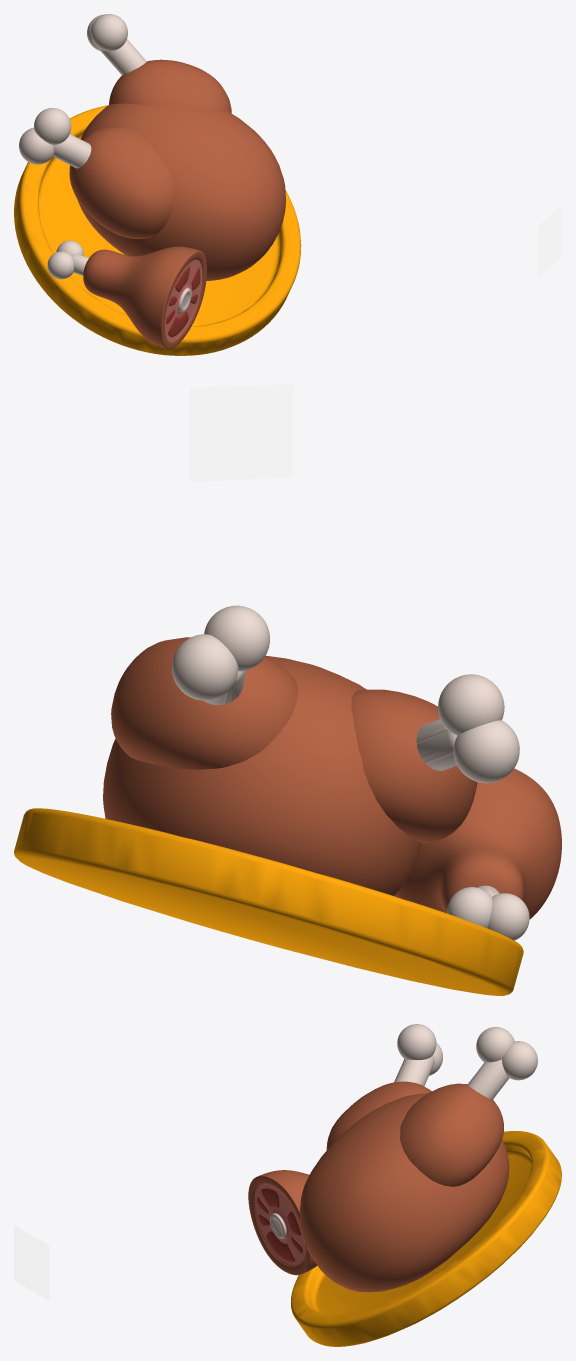
File: chicken.glb
3 renders of one model, top to bottom at view 1: azimuth 30°, elevation 25°; view 2: azimuth 150°, elevation 25°; view 3: azimuth 270°, elevation 25°, orthographic. The views are drawn at different scales.
Visible parts, largest first — view 1: Cube, Cylinder.001, Cube.001, Cube.002, Sphere, Cylinder, Plane.002, Sphere.001, Cube.003; view 2: Cylinder.001, Cube, Cube.001, Cube.002, Sphere, Plane.002, Sphere.001, Cylinder; view 3: Cube, Cylinder.001, Cube.001, Cube.002, Sphere, Plane.002, Cylinder, Cube.003.
Part boxes in pixels (bbox=[...]): Cube: bbox=[77, 103, 285, 280]; Cylinder.001: bbox=[14, 105, 301, 355]; Cube.001: bbox=[69, 59, 231, 238]; Cube.002: bbox=[83, 246, 206, 349]; Sphere: bbox=[19, 14, 127, 164]; Cylinder: bbox=[53, 39, 146, 168]; Plane.002: bbox=[538, 204, 561, 278]; Sphere.001: bbox=[47, 240, 83, 279]; Cube.003: bbox=[166, 266, 200, 336]; Cylinder.001: bbox=[14, 808, 523, 995]; Cube: bbox=[103, 655, 421, 895]; Cube.001: bbox=[111, 637, 477, 843]; Cube.002: bbox=[394, 768, 561, 919]; Sphere: bbox=[172, 605, 519, 783]; Plane.002: bbox=[189, 384, 292, 481]; Sphere.001: bbox=[447, 887, 529, 940]; Cylinder: bbox=[203, 671, 457, 770]; Cube: bbox=[299, 1093, 509, 1292]; Cylinder.001: bbox=[291, 1131, 561, 1346]; Cube.001: bbox=[326, 1081, 503, 1186]; Cube.002: bbox=[248, 1170, 317, 1275]; Sphere: bbox=[397, 1024, 537, 1080]; Plane.002: bbox=[14, 1225, 49, 1300]; Cylinder: bbox=[394, 1055, 509, 1099]; Cube.003: bbox=[257, 1188, 302, 1262].
Bounding box in the file's own units: 7.82 × 5.64 × 9.79.
